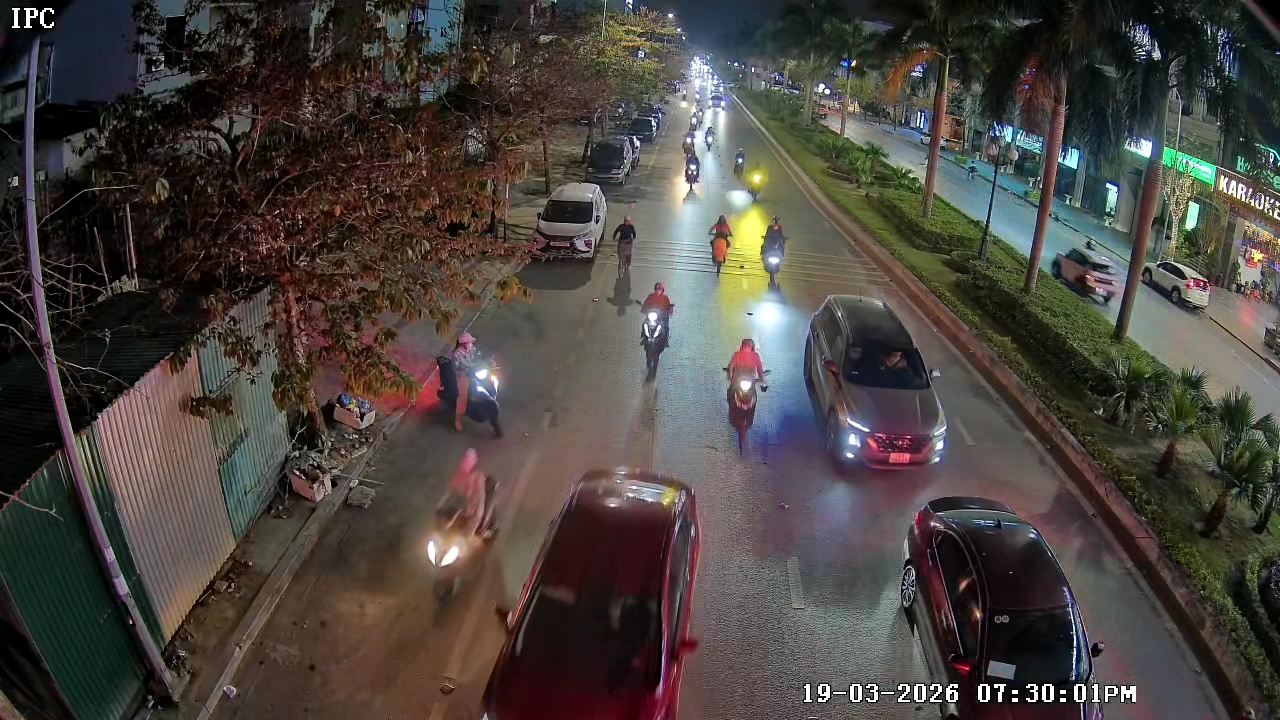bike: (611, 214, 638, 305), (759, 215, 788, 289)
car: (476, 467, 706, 719), (896, 494, 1107, 719), (802, 293, 949, 471), (530, 181, 608, 266), (582, 133, 641, 186)
motorbike: (442, 329, 506, 437), (720, 334, 772, 441), (636, 280, 677, 379), (759, 215, 788, 290), (706, 212, 733, 275), (682, 144, 703, 194), (748, 162, 768, 204), (702, 126, 718, 156), (683, 129, 699, 154)
